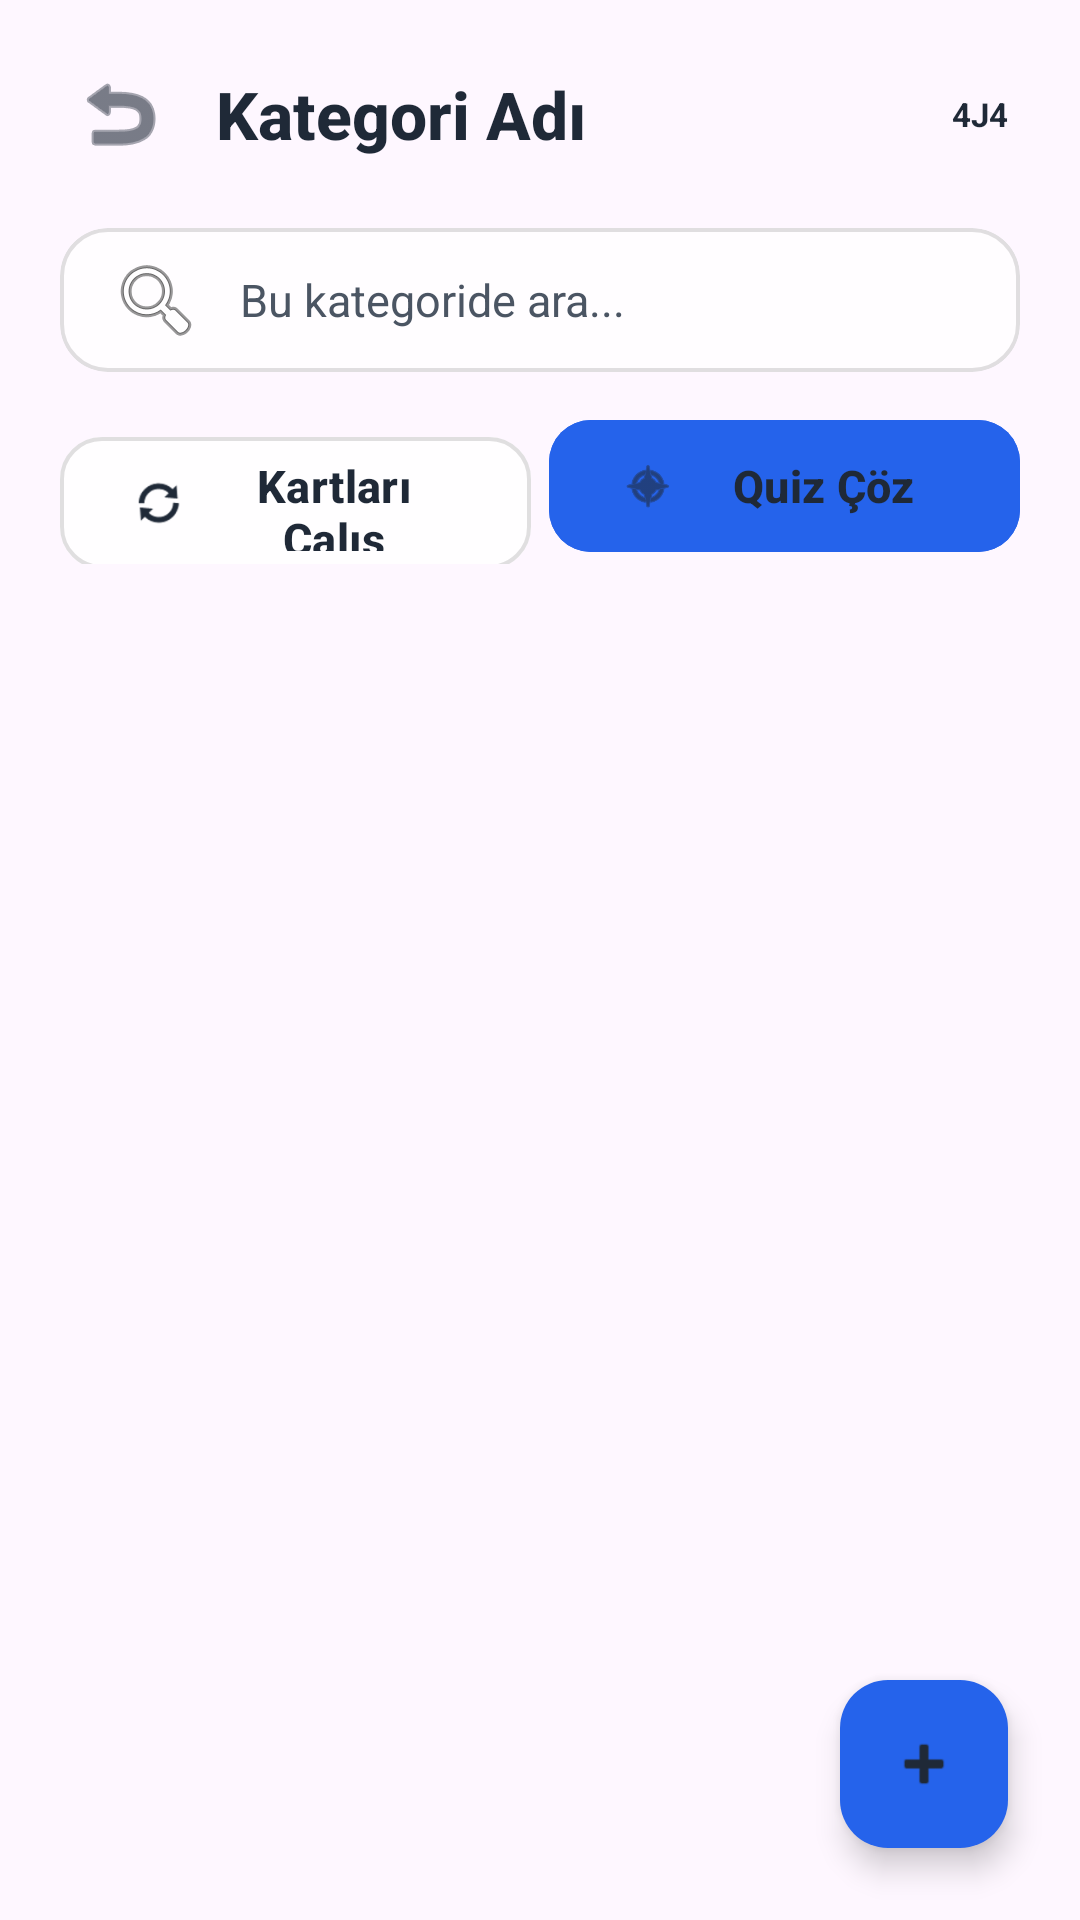

Named icons in this screenshot (1080 x 1920) and their bounding boxes, (x1, y1, x2, y2):
Geri: (87, 83, 156, 146)
Kelime Ekle: (840, 1680, 1008, 1848)
